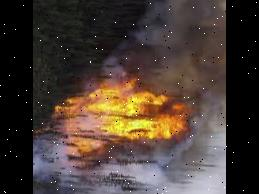fire: (44, 67, 198, 172)
